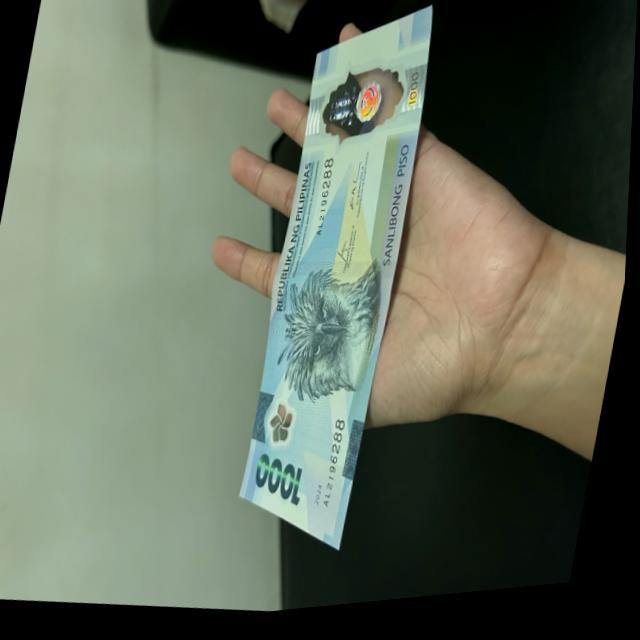clear_window: (315, 64, 416, 160)
eagle: (274, 261, 396, 411)
sampaguita: (267, 404, 304, 451)
